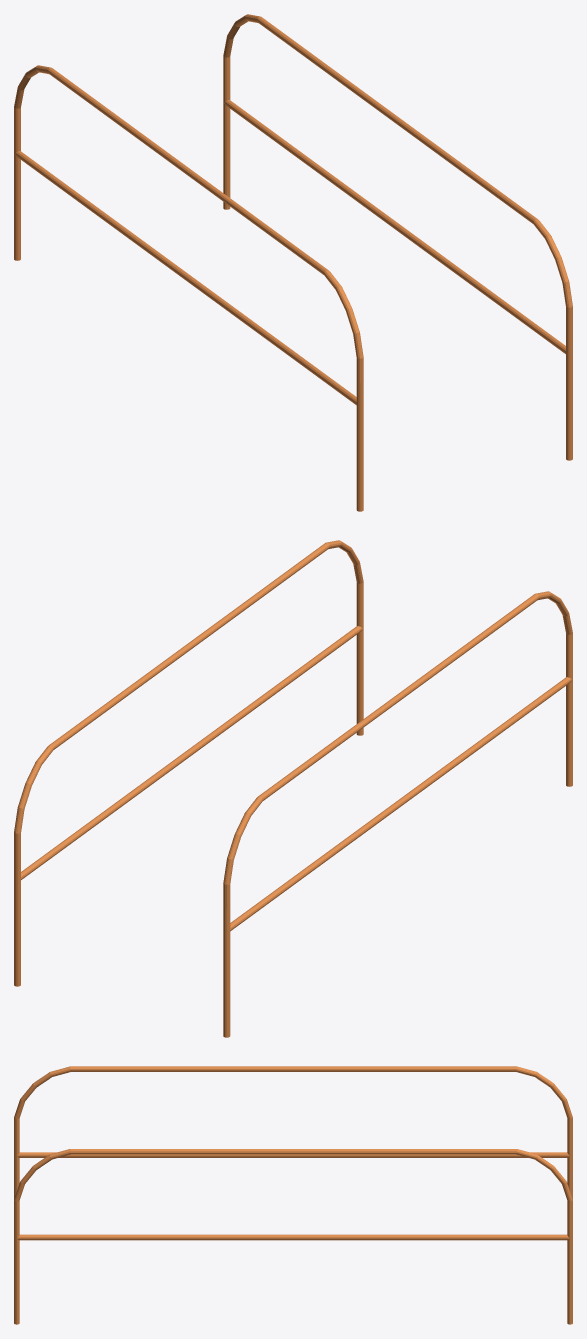
The model's file is catPlat3x1.fbx.
3 renders of one model, top to bottom at view 1: azimuth 30°, elevation 25°; view 2: azimuth 150°, elevation 25°; view 3: azimuth 270°, elevation 25°, orthographic. The views are drawn at different scales.
Visible parts, largest first — view 1: catPlat3Rail.001, catPlat3Rail; view 2: catPlat3Rail.001, catPlat3Rail; view 3: catPlat3Rail, catPlat3Rail.001.
Boxes of the visible parts, <box> form: catPlat3Rail.001: <box>14,65,363,511</box>; catPlat3Rail: <box>223,14,572,460</box>; catPlat3Rail.001: <box>223,591,572,1037</box>; catPlat3Rail: <box>14,540,363,986</box>; catPlat3Rail: <box>14,1149,572,1324</box>; catPlat3Rail.001: <box>14,1066,572,1199</box>.
Size of the model in its own units: 212 by 590 by 203.
